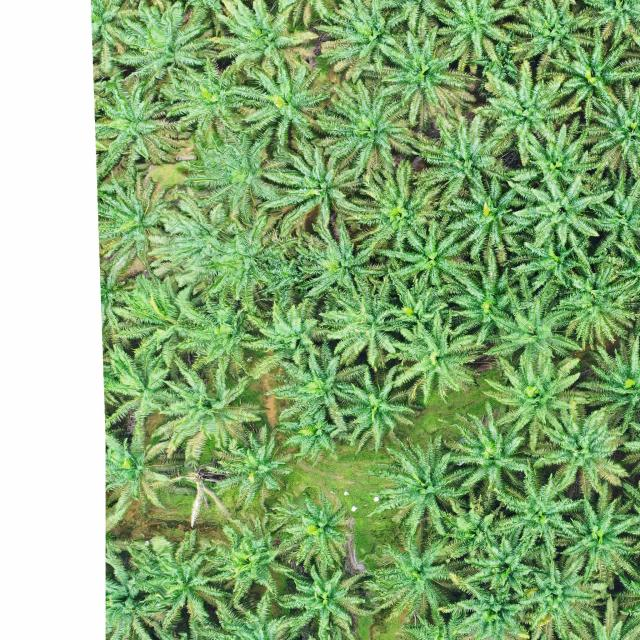Tree: (366, 426, 478, 537), (470, 56, 582, 167), (255, 131, 371, 232), (480, 348, 590, 454), (129, 521, 236, 629), (311, 72, 421, 176), (104, 2, 220, 100), (372, 23, 477, 130), (407, 110, 518, 210), (178, 125, 289, 223), (528, 394, 630, 498), (267, 336, 371, 434), (364, 530, 474, 622), (206, 0, 322, 86), (345, 153, 443, 251), (434, 168, 534, 264), (161, 56, 269, 144), (492, 462, 588, 558), (372, 216, 488, 295), (481, 273, 586, 359), (509, 169, 615, 254), (382, 312, 476, 407), (317, 276, 411, 371), (518, 547, 613, 640), (110, 273, 202, 367), (553, 251, 640, 350), (228, 58, 328, 144), (294, 211, 390, 300), (204, 420, 297, 511), (327, 359, 417, 453), (238, 293, 334, 381), (310, 0, 408, 85), (172, 285, 263, 375), (269, 559, 370, 640), (206, 516, 294, 608), (98, 79, 176, 180), (558, 491, 640, 587), (502, 118, 608, 192), (444, 410, 528, 502), (544, 29, 640, 108), (104, 418, 184, 510), (424, 0, 526, 71), (104, 345, 184, 434), (575, 329, 640, 438), (442, 262, 524, 348), (372, 266, 462, 342), (276, 487, 356, 572), (438, 575, 542, 640), (502, 0, 604, 65), (430, 481, 512, 561), (581, 78, 640, 188), (510, 231, 608, 290), (463, 530, 547, 594), (582, 172, 640, 260), (284, 408, 349, 468)
